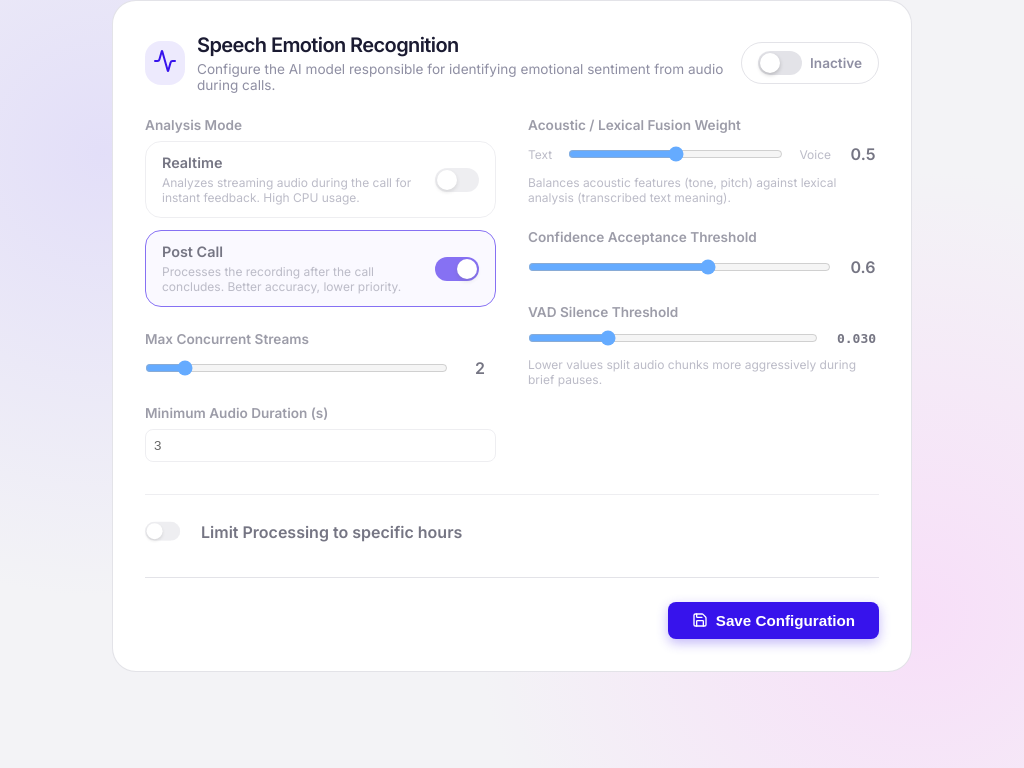
Test: SerConfig › shows error message if save fails
Click the button "Save Configuration" at (773, 620), box [668,602,879,639]
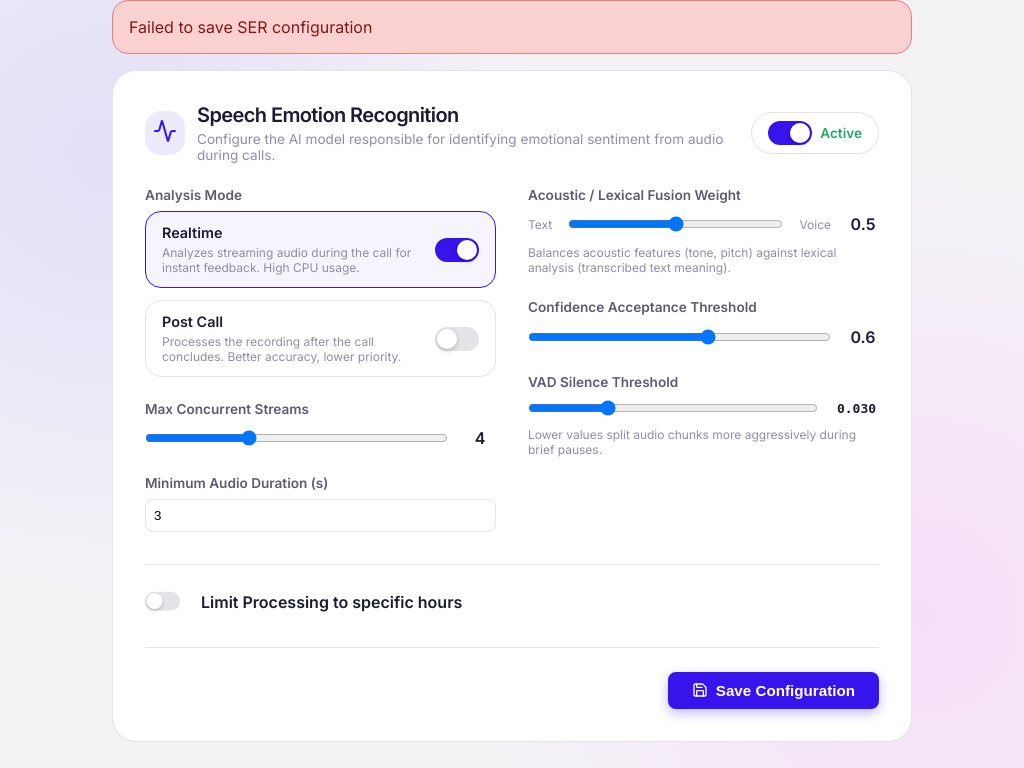
Check: the text "Failed to save SER configuration" is shown, box [112,0,912,54]
